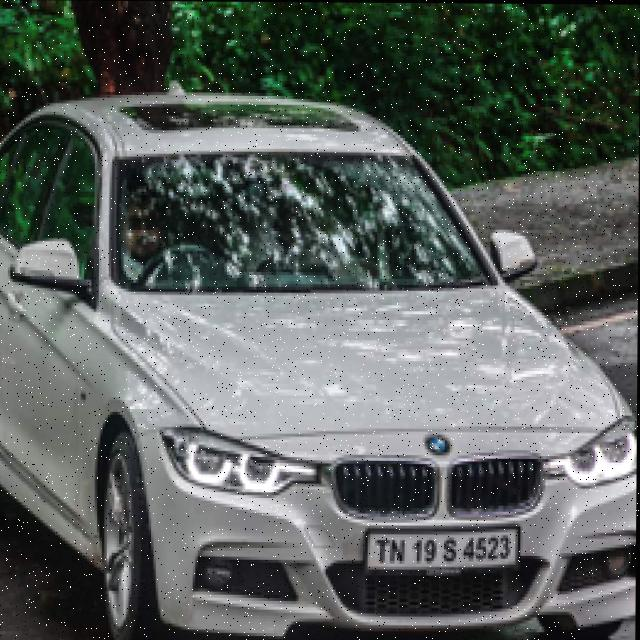plate: (367, 526, 521, 570)
